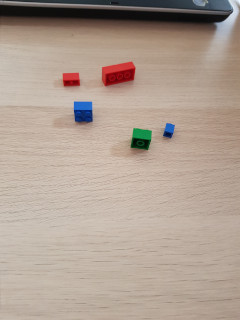1x1 blue: (163, 123, 175, 139)
1x2 red: (62, 72, 81, 86)
2x2 blue: (73, 101, 93, 123)
2x2 green: (130, 126, 153, 151)
2x4 red: (101, 61, 136, 86)
